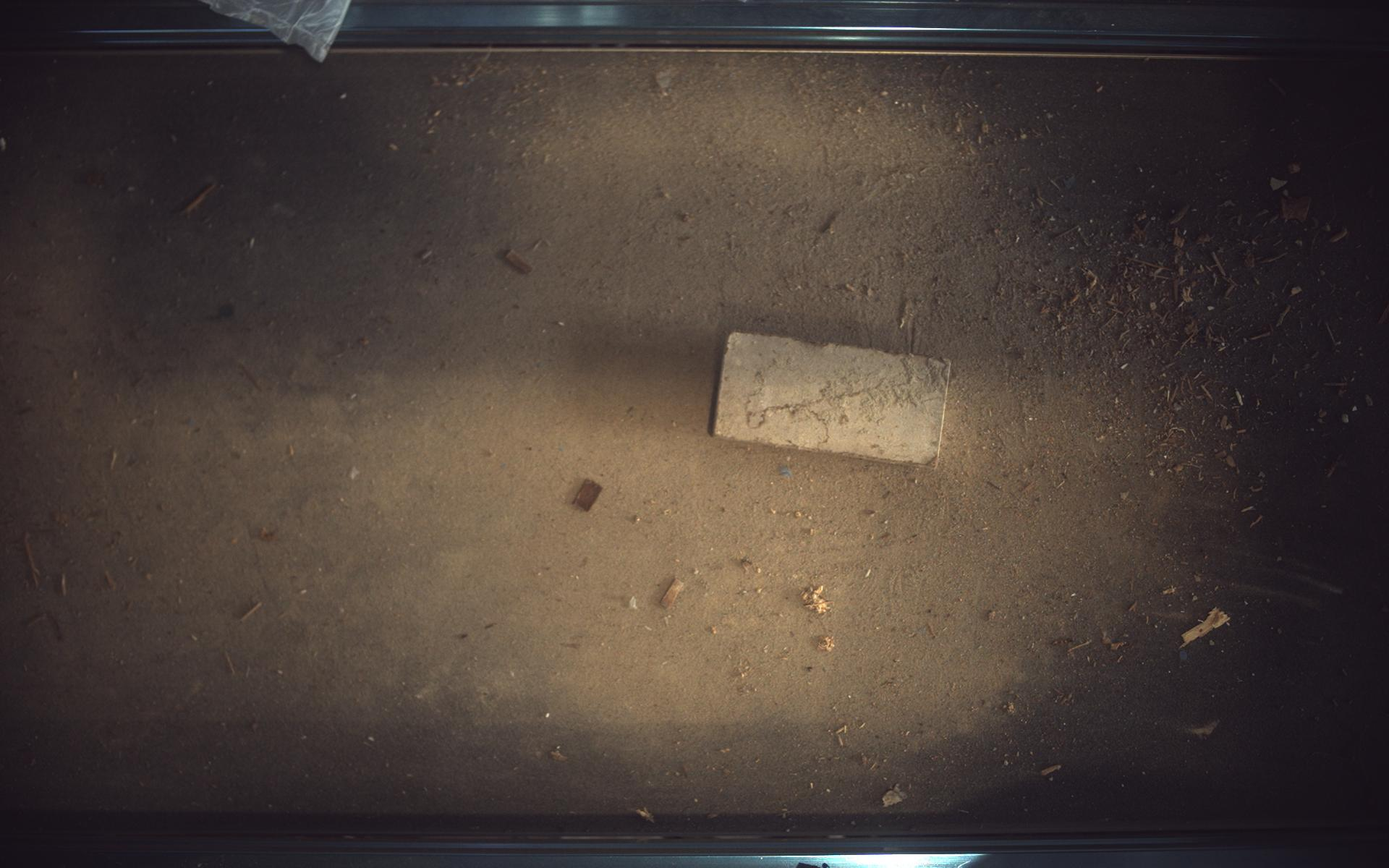wood: (714, 332, 952, 465)
